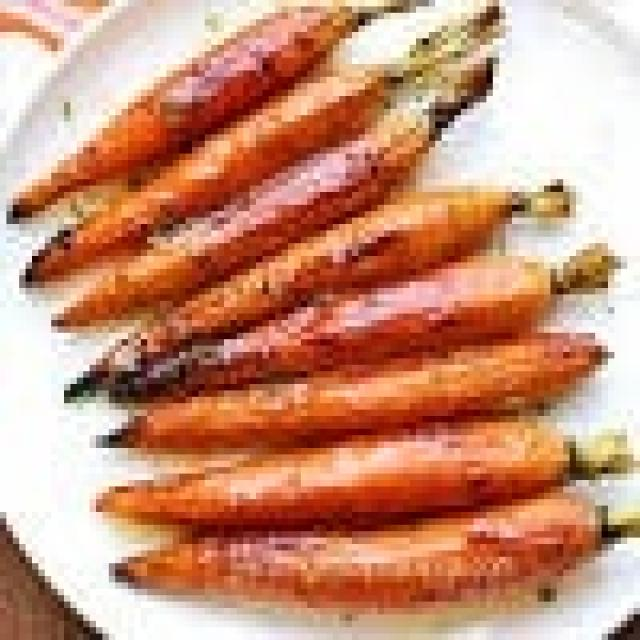Stale_Carrot: (51, 28, 584, 591)
